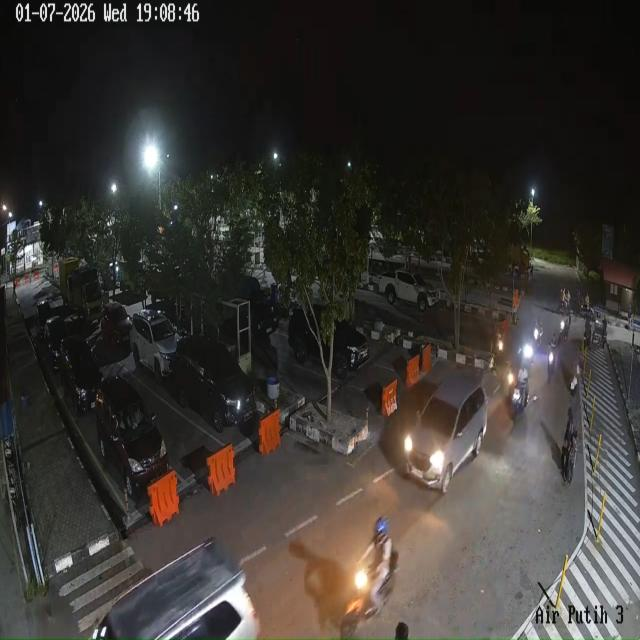Golongan IVA: (92, 538, 259, 640), (404, 372, 487, 494), (96, 376, 169, 498), (174, 336, 258, 432), (288, 304, 369, 380), (130, 309, 180, 382), (59, 335, 103, 415), (100, 301, 132, 346), (43, 316, 68, 371), (36, 300, 52, 339)
Golongan IVB: (378, 270, 439, 312)
Golongan VB: (59, 258, 108, 322)
